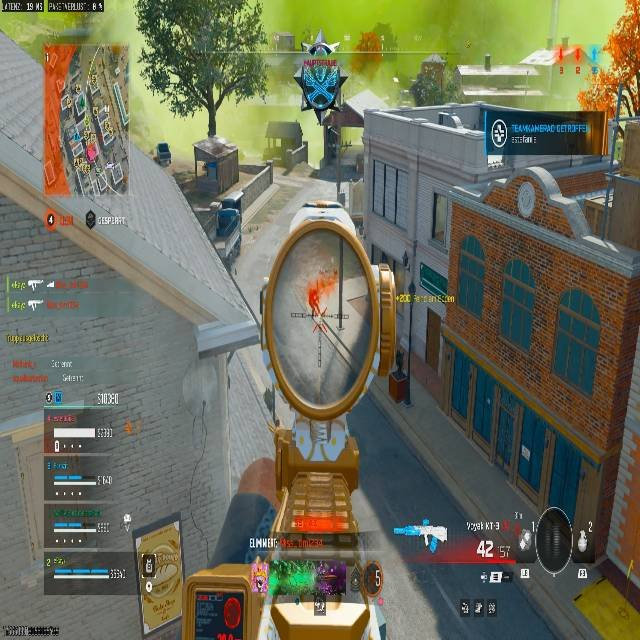player: (166, 77, 411, 425), (290, 41, 366, 176), (293, 40, 348, 125)
